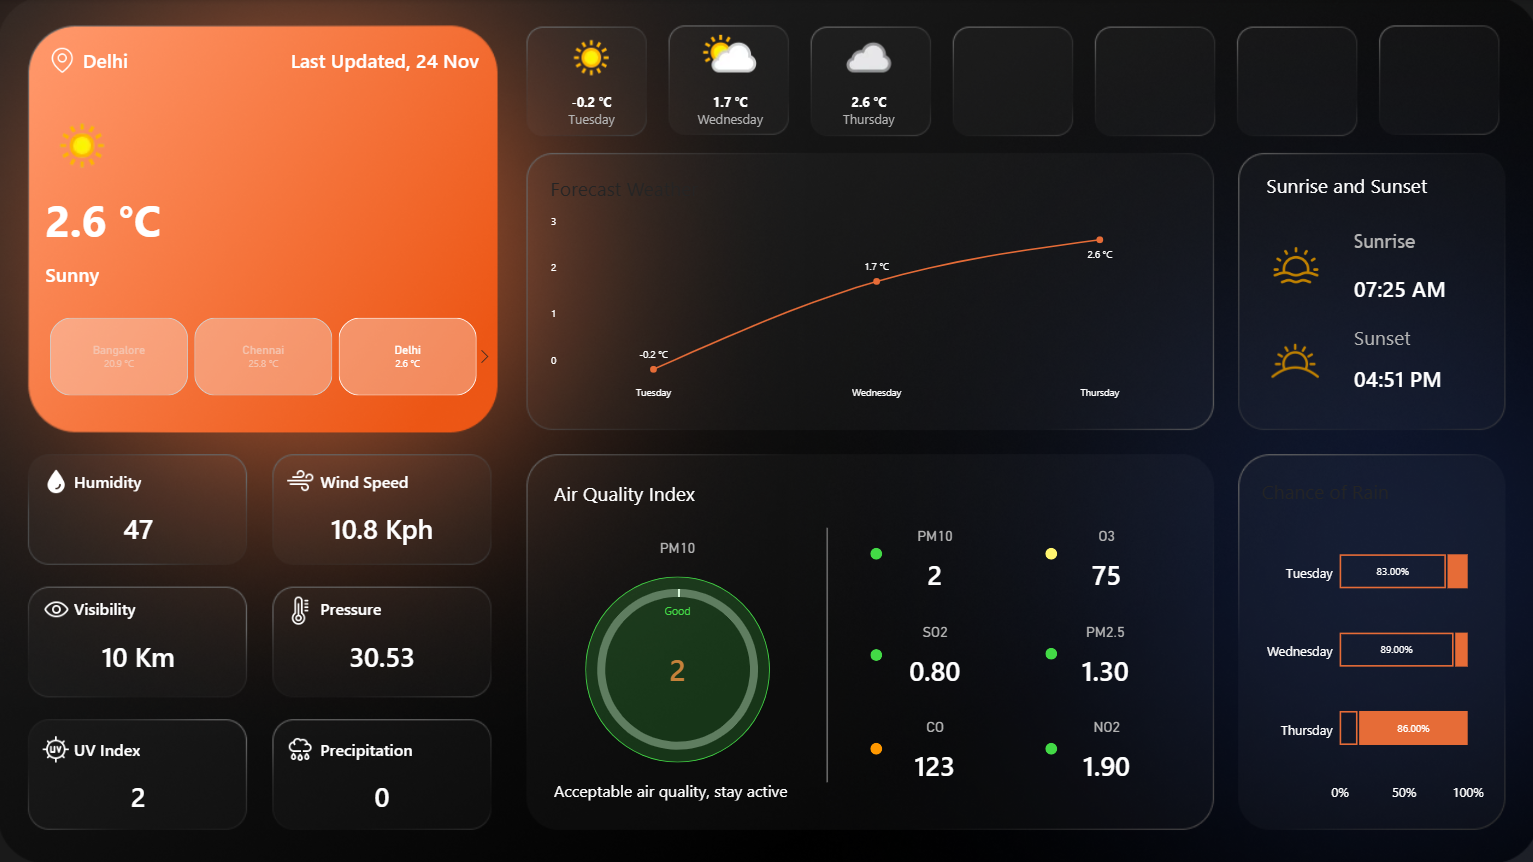

What the dashboard file says about the page in this screenshot:
{"tool":"powerbi","page":{"name":"Page 1","canvas":[1920,1080],"ordinal":0},"visuals":[{"type":"donutChart","title":"PM10","fields":{"Y":["Sum(Current.current.air_quality.pm10)","_Measures.Left_value_PM10"]},"box":[671.5,659.3,348.8,317.4],"z":0},{"type":"shape","box":[730.8,720.4,230.2,232],"z":1000},{"type":"advancedSlicerVisual","fields":{"Values":["Location.location.name"]},"box":[43.6,397.7,572.1,97.7],"z":2000},{"type":"shape","box":[57.6,233.7,204.1,82],"z":3000},{"type":"shape","box":[57.6,315.7,317.4,52.3],"z":4000},{"type":"shape","box":[105,51.5,135.8,51.5],"z":5000},{"type":"shape","box":[347.9,51.5,251.1,51.5],"z":6000},{"type":"image","box":[57.6,61,41.9,31.4],"z":7000},{"type":"cardVisual","fields":{"Data":["Min(Current.current.condition.icon)"]},"box":[57.6,33.1,92.4,200.6],"z":8000},{"type":"image","box":[45.3,743,52.3,34.9],"z":9000},{"type":"shape","box":[94.2,743,92.4,33.1],"z":10000},{"type":"image","box":[45.3,586,52.3,31.4],"z":11000},{"type":"shape","box":[94.2,584.3,92.4,33.1],"z":12000},{"type":"image","box":[43.6,917.4,54.1,34.9],"z":13000},{"type":"shape","box":[94.2,919.2,92.4,33.1],"z":14000},{"type":"image","box":[348.8,582.6,52.3,34.9],"z":15000},{"type":"shape","box":[401.2,584.3,125.6,33.1],"z":16000},{"type":"image","box":[348.8,744.8,52.3,34.9],"z":17000},{"type":"shape","box":[401.2,743,92.4,33.1],"z":18000},{"type":"image","box":[348.8,917.4,52.3,34.9],"z":19000},{"type":"shape","box":[401.2,919.2,125.6,33.1],"z":20000},{"type":"cardVisual","fields":{"Data":["Sum(Current.current.humidity)"]},"box":[71.5,631.4,204.1,55.8],"z":21000},{"type":"cardVisual","fields":{"Data":["_Measures.Wind_Speed"]},"box":[375,631.4,204.1,55.8],"z":22000},{"type":"cardVisual","fields":{"Data":["_Measures.Visibility"]},"box":[71.5,791.9,204.1,55.8],"z":23000},{"type":"cardVisual","fields":{"Data":["Sum(Current.current.uv)"]},"box":[71.5,966.3,204.1,55.8],"z":24000},{"type":"cardVisual","fields":{"Data":["Sum(Current.current.pressure_in)"]},"box":[375,791.9,204.1,55.8],"z":25000},{"type":"cardVisual","fields":{"Data":["Sum(Current.current.precip_in)"]},"box":[375,966.3,204.1,55.8],"z":26000},{"type":"advancedSlicerVisual","fields":{"Values":["Forecast_Day.Day_Name"]},"box":[655.8,33.1,511,136],"z":27000},{"type":"lineChart","title":"Forecast Weather","fields":{"Category":["Forecast_Day.Day_Name"],"Y":["Sum(Forecast_Day.forecast.forecastday.day.avgtemp_c)"]},"box":[672.2,206.1,828.3,314],"z":28000},{"type":"shape","box":[1581.4,211.9,250.4,42.4],"z":29000},{"type":"shape","box":[1689.3,331.3,119.4,55.9],"z":30000},{"type":"shape","box":[1689.3,452.6,119.4,42.4],"z":31000},{"type":"shape","box":[1689.3,281.2,98.2,44.3],"z":32000},{"type":"shape","box":[1689.3,396.8,90.5,50.1],"z":33000},{"type":"image","box":[1581.4,304.3,73.2,55.9],"z":34000},{"type":"image","box":[1573.7,412.2,86.7,79],"z":35000},{"type":"hundredPercentStackedBarChart","title":"Chance of Rain","fields":{"Category":["Forecast_Day.Day_Name"],"Y":["Current.Left_value_Rain","Sum(Forecast_Day.forecast.forecastday.day.daily_chance_of_rain)"]},"box":[1558.2,582.5,308.7,438.4],"z":36000},{"type":"shape","box":[691.6,594.9,250.4,42.4],"z":37000},{"type":"cardVisual","title":"PM10","fields":{"Data":["Sum(Current.current.air_quality.pm10)"]},"box":[1097.1,658.7,140,78.2],"z":38000},{"type":"cardVisual","title":"SO2","fields":{"Data":["Sum(Current.current.air_quality.so2)"]},"box":[1097.1,780.1,140,78.2],"z":39000},{"type":"cardVisual","title":"CO","fields":{"Data":["Sum(Current.current.air_quality.co)"]},"box":[1097.1,897.4,140,78.2],"z":40000},{"type":"cardVisual","title":"NO2","fields":{"Data":["Sum(Current.current.air_quality.no2)"]},"box":[1313.2,897.4,137.9,78.2],"z":41000},{"type":"cardVisual","title":"PM2.5","fields":{"Data":["Sum(Current.current.air_quality.pm2_5)"]},"box":[1311.2,780.1,137.9,78.2],"z":42000},{"type":"cardVisual","title":"O3","fields":{"Data":["Sum(Current.current.air_quality.o3)"]},"box":[1313.2,658.7,137.9,78.2],"z":43000},{"type":"shape","box":[1086.6,683.7,15,15],"z":44000},{"type":"shape","box":[1086.6,811,15,15],"z":45000},{"type":"shape","box":[1304.7,809.3,15,15],"z":46000},{"type":"shape","box":[1304.7,683.7,15,15],"z":47000},{"type":"shape","box":[1086.6,927.9,15,15],"z":48000},{"type":"shape","box":[1304.7,927.9,15,15],"z":49000},{"type":"shape","box":[1002.9,659.3,61,317.4],"z":50000},{"type":"shape","box":[692.4,952.3,327.9,68],"z":50001}]}

Visuals, with their boxes in screenshot pixels (x1, y1, x2, y2), scaled from the page's 1920x1080 canvas onto the 1533x862 screenshot:
"PM10" donutChart: box=[536, 526, 815, 780]
shape: box=[583, 575, 767, 760]
advancedSlicerVisual - Location.location.name: box=[35, 317, 492, 395]
shape: box=[46, 187, 209, 252]
shape: box=[46, 252, 299, 294]
shape: box=[84, 41, 192, 82]
shape: box=[278, 41, 478, 82]
image: box=[46, 49, 79, 74]
cardVisual - Min(Current.current.condition.icon): box=[46, 26, 120, 187]
image: box=[36, 593, 78, 621]
shape: box=[75, 593, 149, 619]
image: box=[36, 468, 78, 493]
shape: box=[75, 466, 149, 493]
image: box=[35, 732, 78, 760]
shape: box=[75, 734, 149, 760]
image: box=[278, 465, 320, 493]
shape: box=[320, 466, 421, 493]
image: box=[278, 594, 320, 622]
shape: box=[320, 593, 394, 619]
image: box=[278, 732, 320, 760]
shape: box=[320, 734, 421, 760]
cardVisual - Sum(Current.current.humidity): box=[57, 504, 220, 548]
cardVisual - _Measures.Wind_Speed: box=[299, 504, 462, 548]
cardVisual - _Measures.Visibility: box=[57, 632, 220, 677]
cardVisual - Sum(Current.current.uv): box=[57, 771, 220, 816]
cardVisual - Sum(Current.current.pressure_in): box=[299, 632, 462, 677]
cardVisual - Sum(Current.current.precip_in): box=[299, 771, 462, 816]
advancedSlicerVisual - Forecast_Day.Day_Name: box=[524, 26, 932, 135]
"Forecast Weather" lineChart: box=[537, 164, 1198, 415]
shape: box=[1263, 169, 1463, 203]
shape: box=[1349, 264, 1444, 309]
shape: box=[1349, 361, 1444, 395]
shape: box=[1349, 224, 1427, 260]
shape: box=[1349, 317, 1421, 357]
image: box=[1263, 243, 1321, 287]
image: box=[1257, 329, 1326, 392]
"Chance of Rain" hundredPercentStackedBarChart: box=[1244, 465, 1491, 815]
shape: box=[552, 475, 752, 509]
"PM10" cardVisual: box=[876, 526, 988, 588]
"SO2" cardVisual: box=[876, 623, 988, 685]
"CO" cardVisual: box=[876, 716, 988, 779]
"NO2" cardVisual: box=[1049, 716, 1159, 779]
"PM2.5" cardVisual: box=[1047, 623, 1157, 685]
"O3" cardVisual: box=[1049, 526, 1159, 588]
shape: box=[868, 546, 880, 558]
shape: box=[868, 647, 880, 659]
shape: box=[1042, 646, 1054, 658]
shape: box=[1042, 546, 1054, 558]
shape: box=[868, 741, 880, 753]
shape: box=[1042, 741, 1054, 753]
shape: box=[801, 526, 849, 780]
shape: box=[553, 760, 815, 814]
